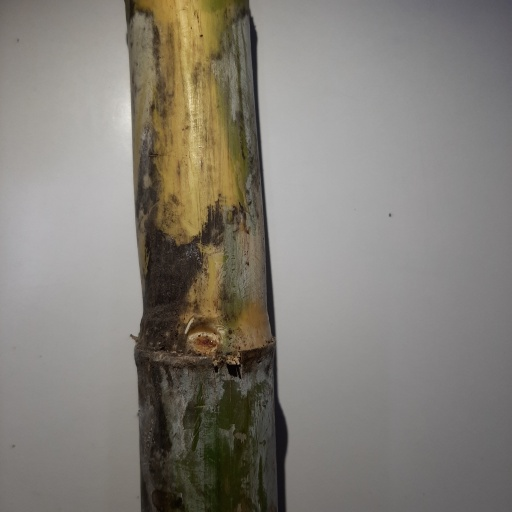Damage_Bud: (187, 318, 221, 356)
